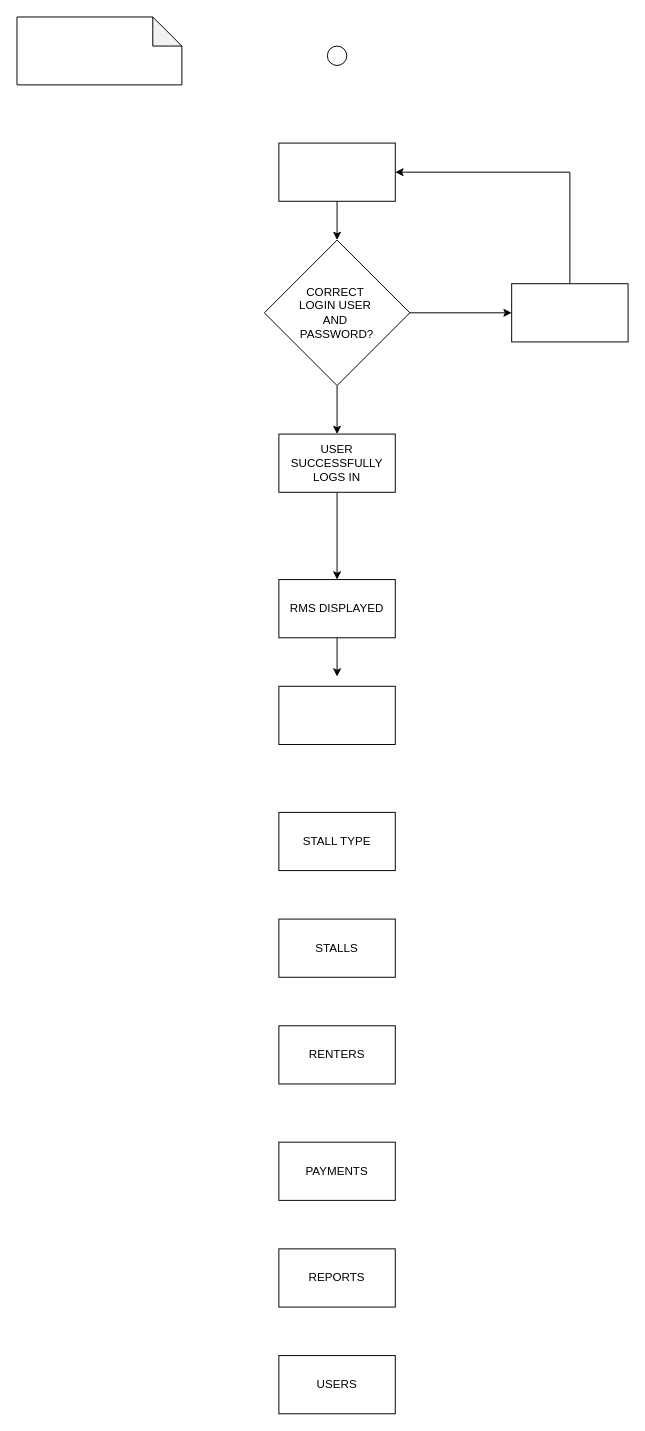
The diagram is 645 pixels wide and 1431 high, and some of its shapes have lost their labels. The shapes that lost their labels are listed below. From the top down, each one's box as (x1, y1, x2, y2) in pixels, then its label:
(16, 16, 182, 85): User is Registered
(278, 142, 395, 201): USER ENTERS LOGIN USER AND PASSWORD
(511, 283, 628, 342): INVALID LOGIN USER/PASSWORD
(278, 685, 395, 744): DASHBOARD
